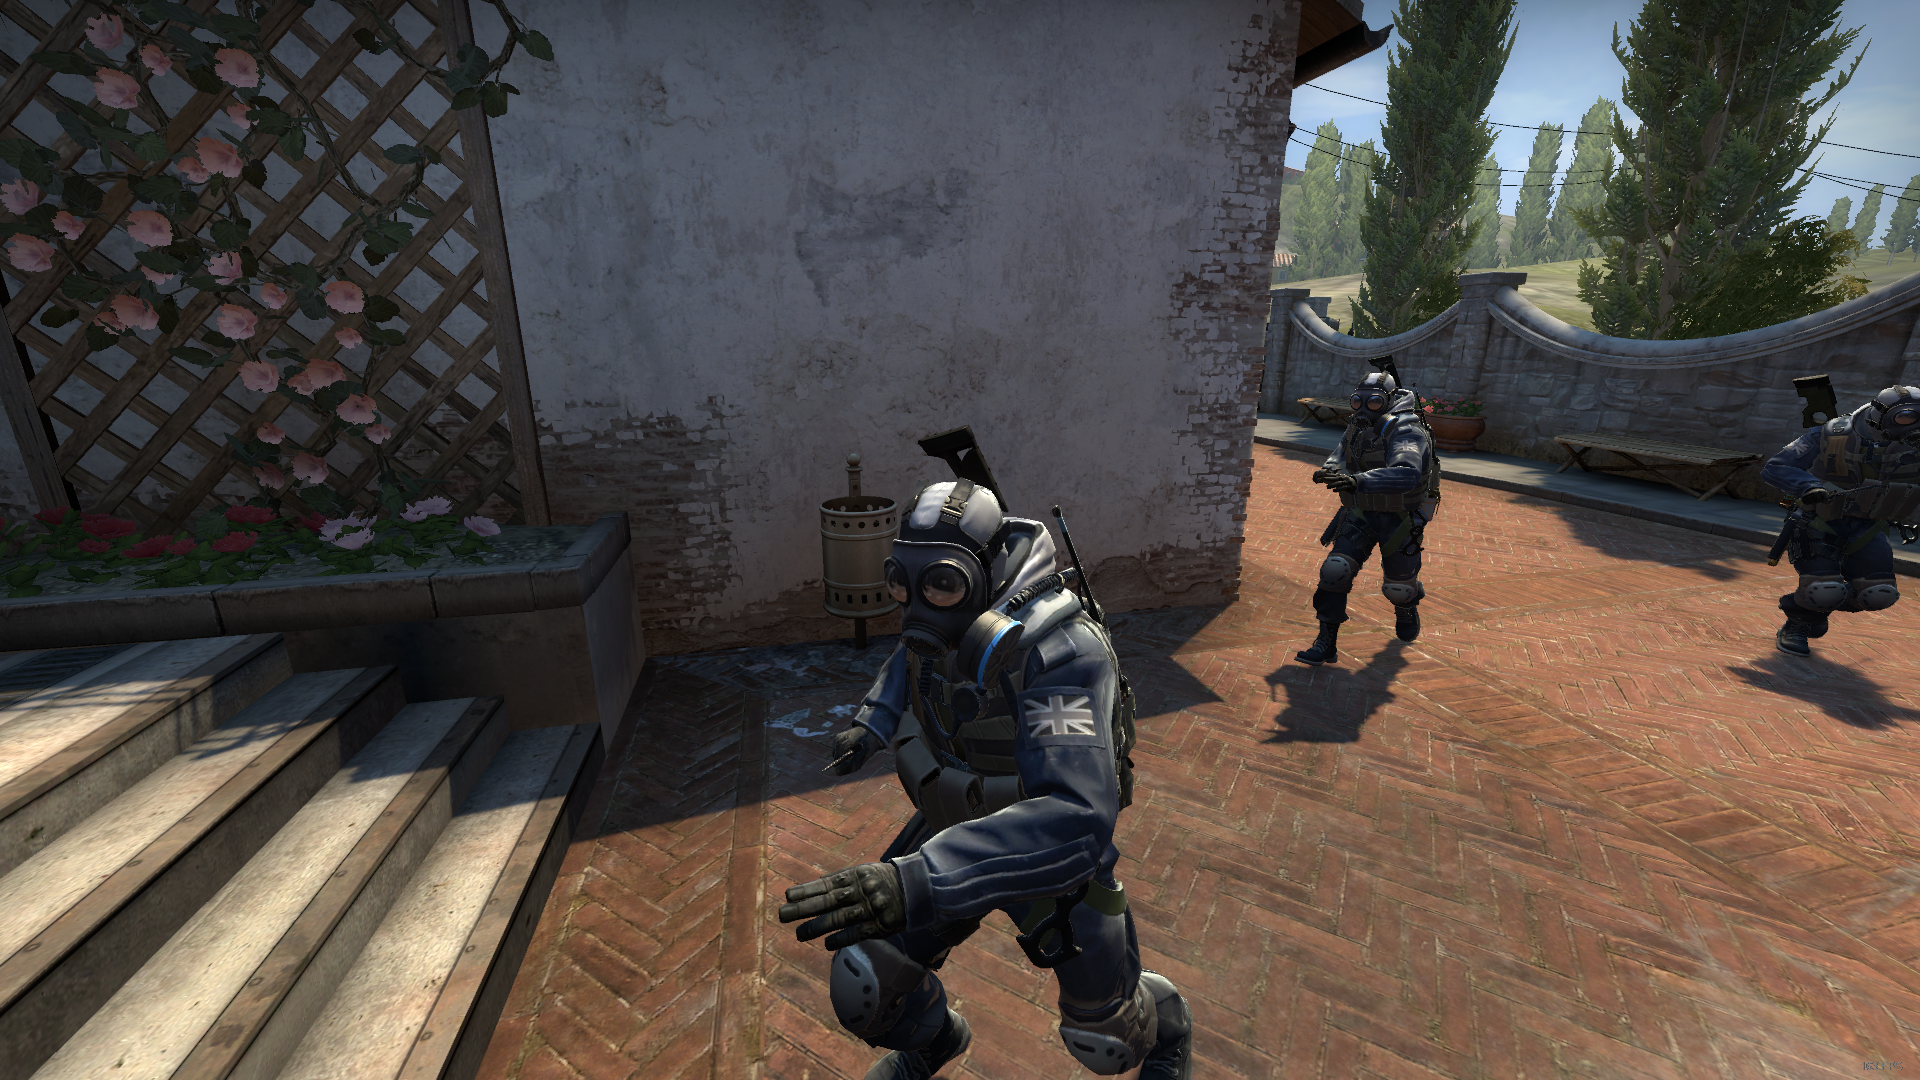ct: (774, 473, 1189, 1080), (1763, 386, 1920, 655), (1294, 376, 1436, 671)
